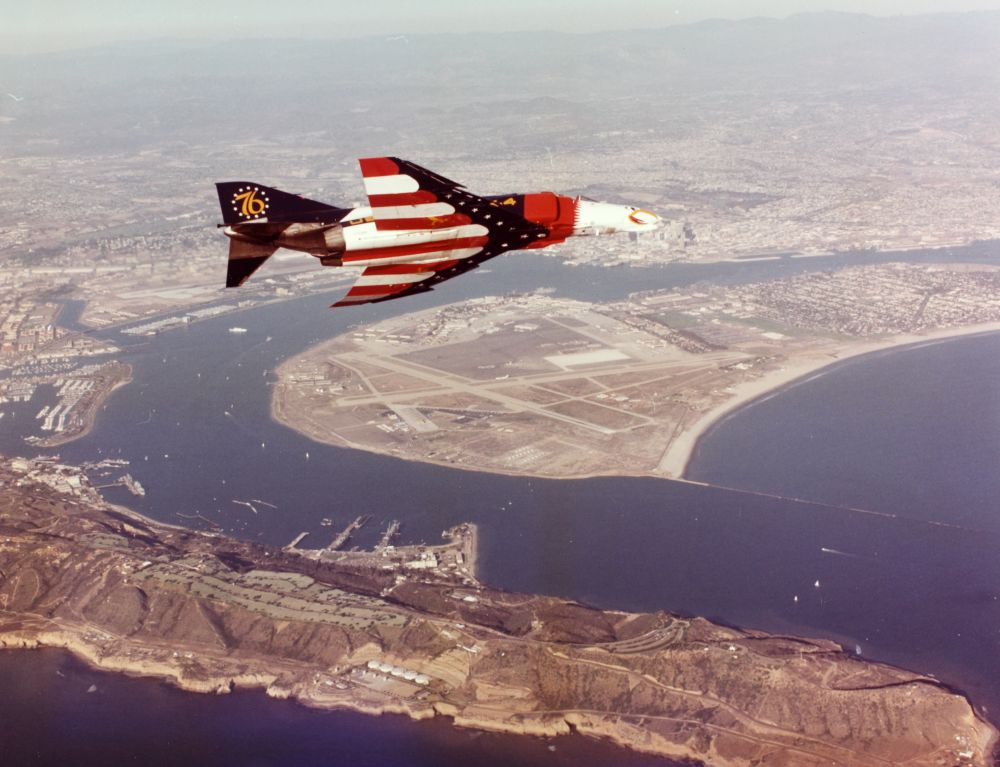F4: (214, 155, 671, 309)
